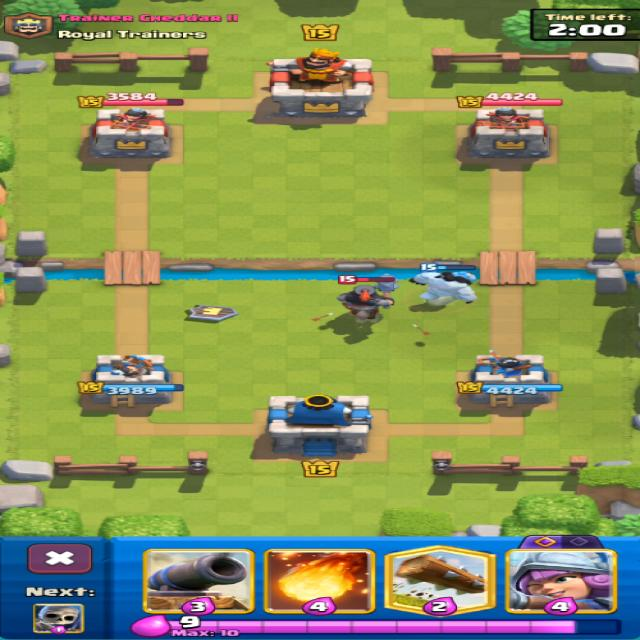Enemy-DarkPrince: (337, 274, 398, 322)
Enemy-KingTower: (270, 49, 372, 116)
Enemy-PrincessTower: (462, 107, 549, 164), (88, 107, 170, 161)
Player-IceGolem: (410, 271, 476, 305)
Player-KingTower: (268, 393, 372, 457)
Player-PrincessTower: (461, 350, 562, 405), (78, 356, 183, 405)
